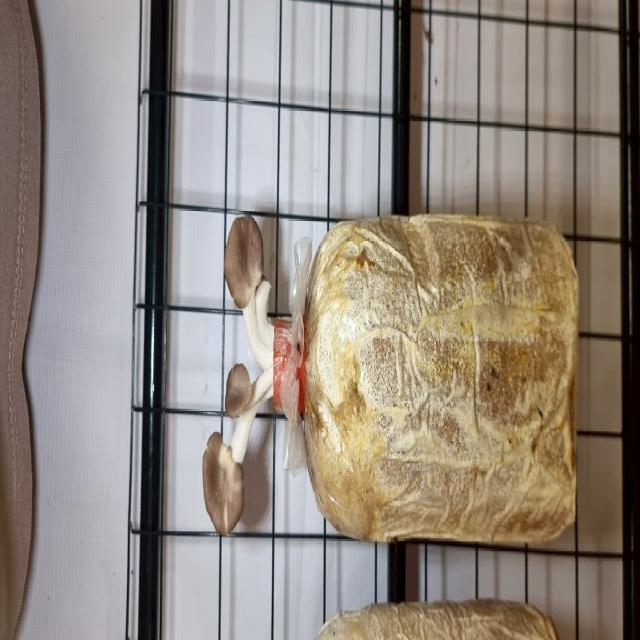normal: (198, 424, 257, 550), (227, 205, 281, 334)
